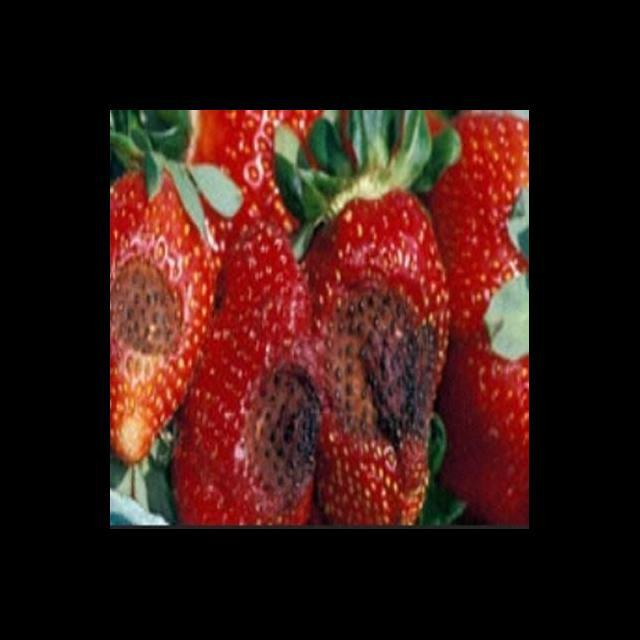Anthracnose Fruit Rot: (317, 281, 442, 453), (232, 361, 324, 515), (111, 251, 192, 361)
